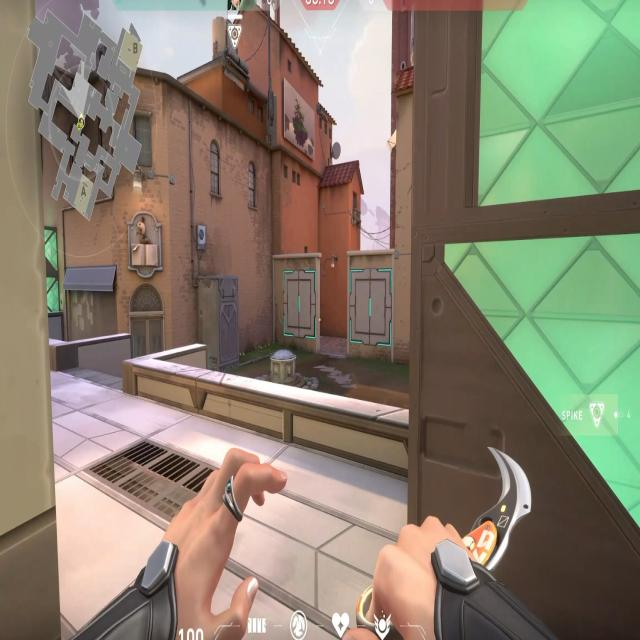Mid_Wall: (350, 269, 394, 347), (282, 268, 318, 341)
